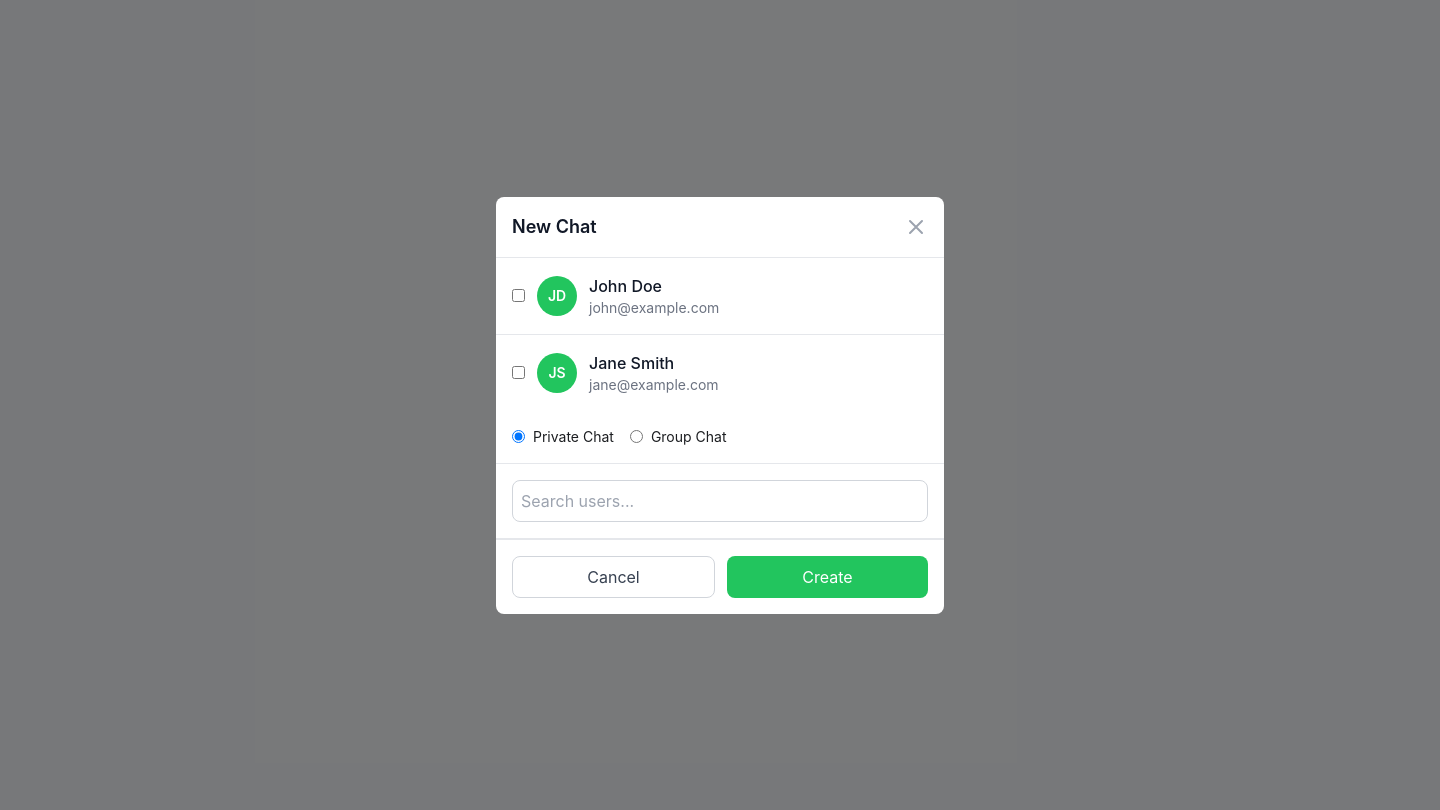
Scenario: NewChatModal › TDD: User Selection › should allow deselecting users
Click the checkbox named "John Doe" at {"x": 518, "y": 296}, box [512,289,525,302]
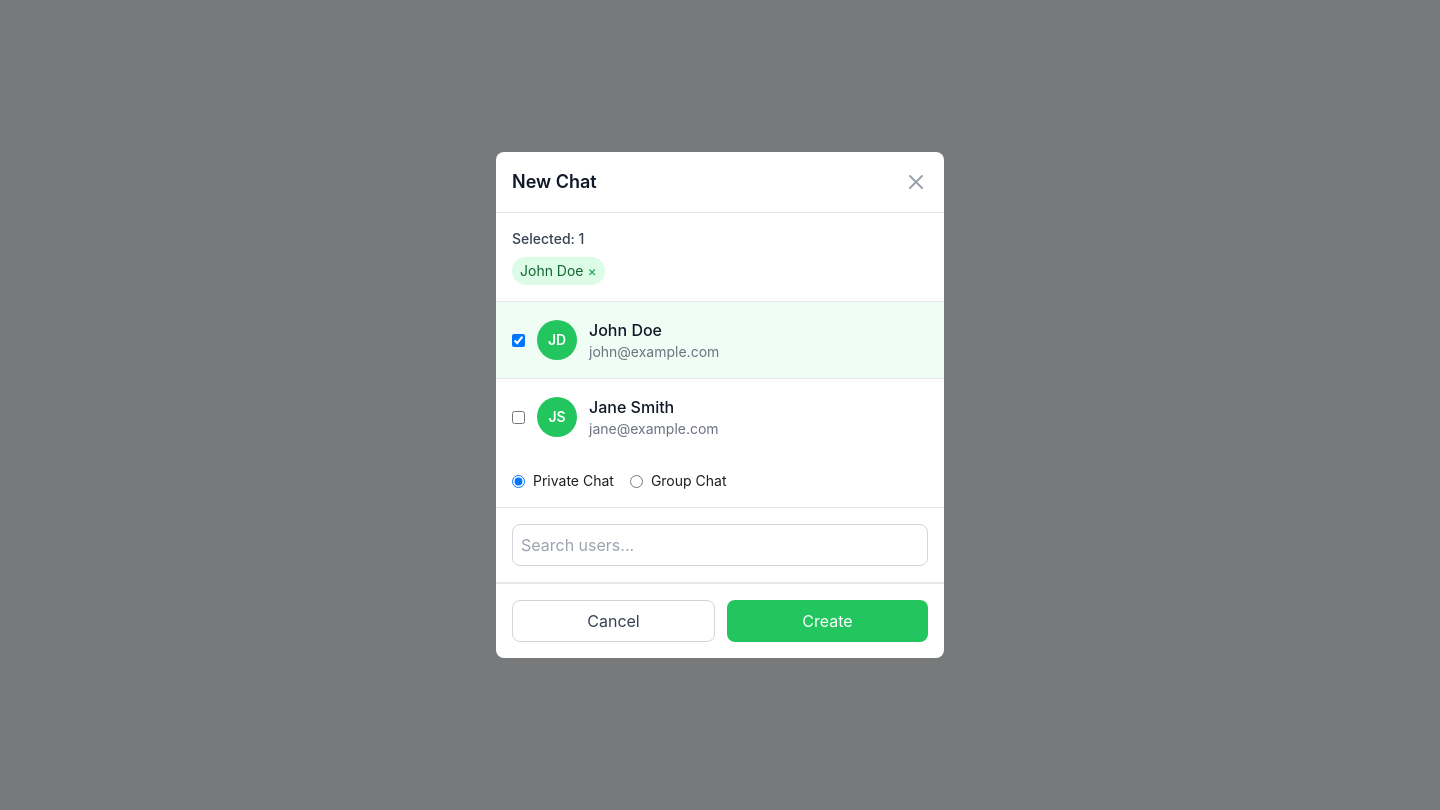
Click the checkbox named "John Doe" at {"x": 518, "y": 340}, box [512,334,525,346]
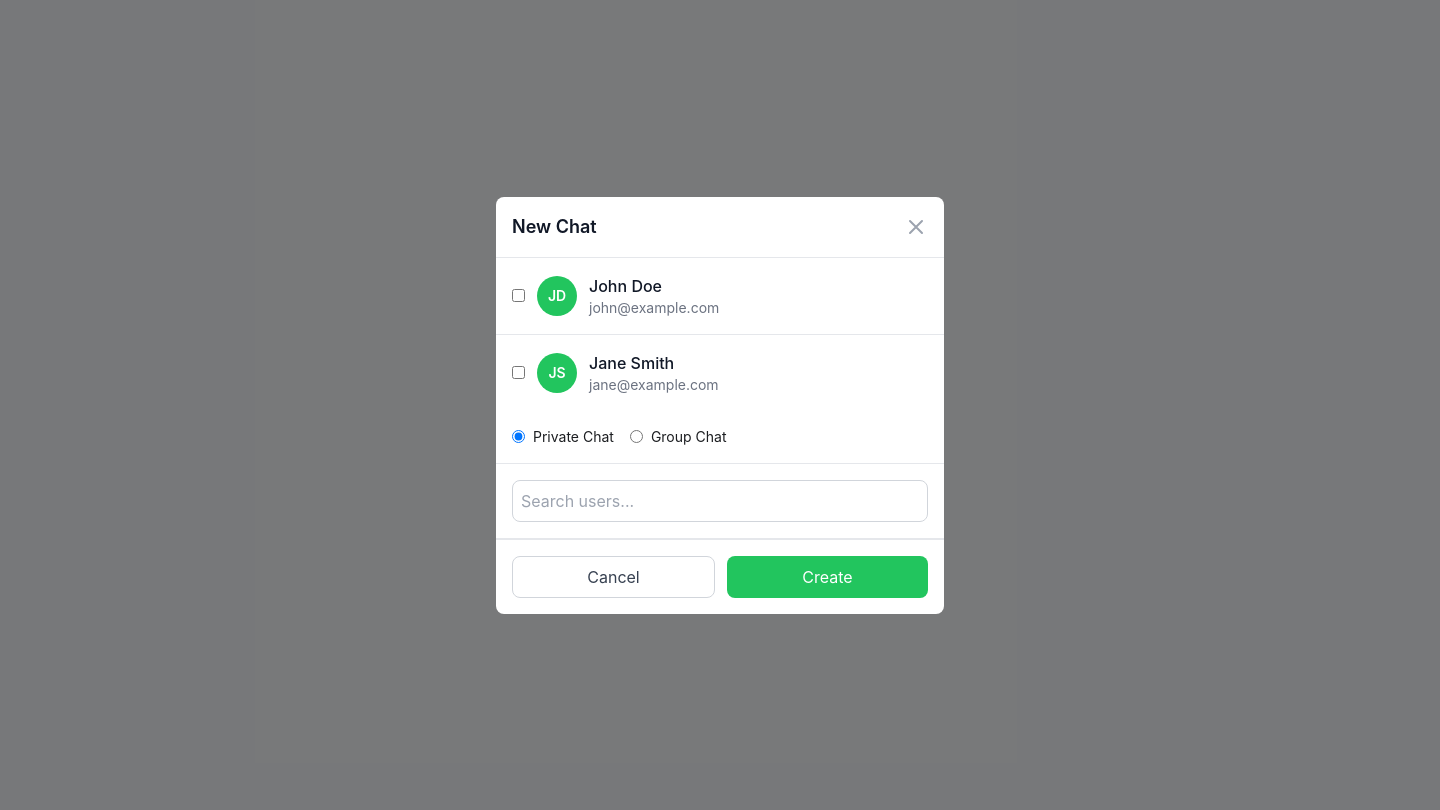
Expected: the heading "Selected: 1" is gone
